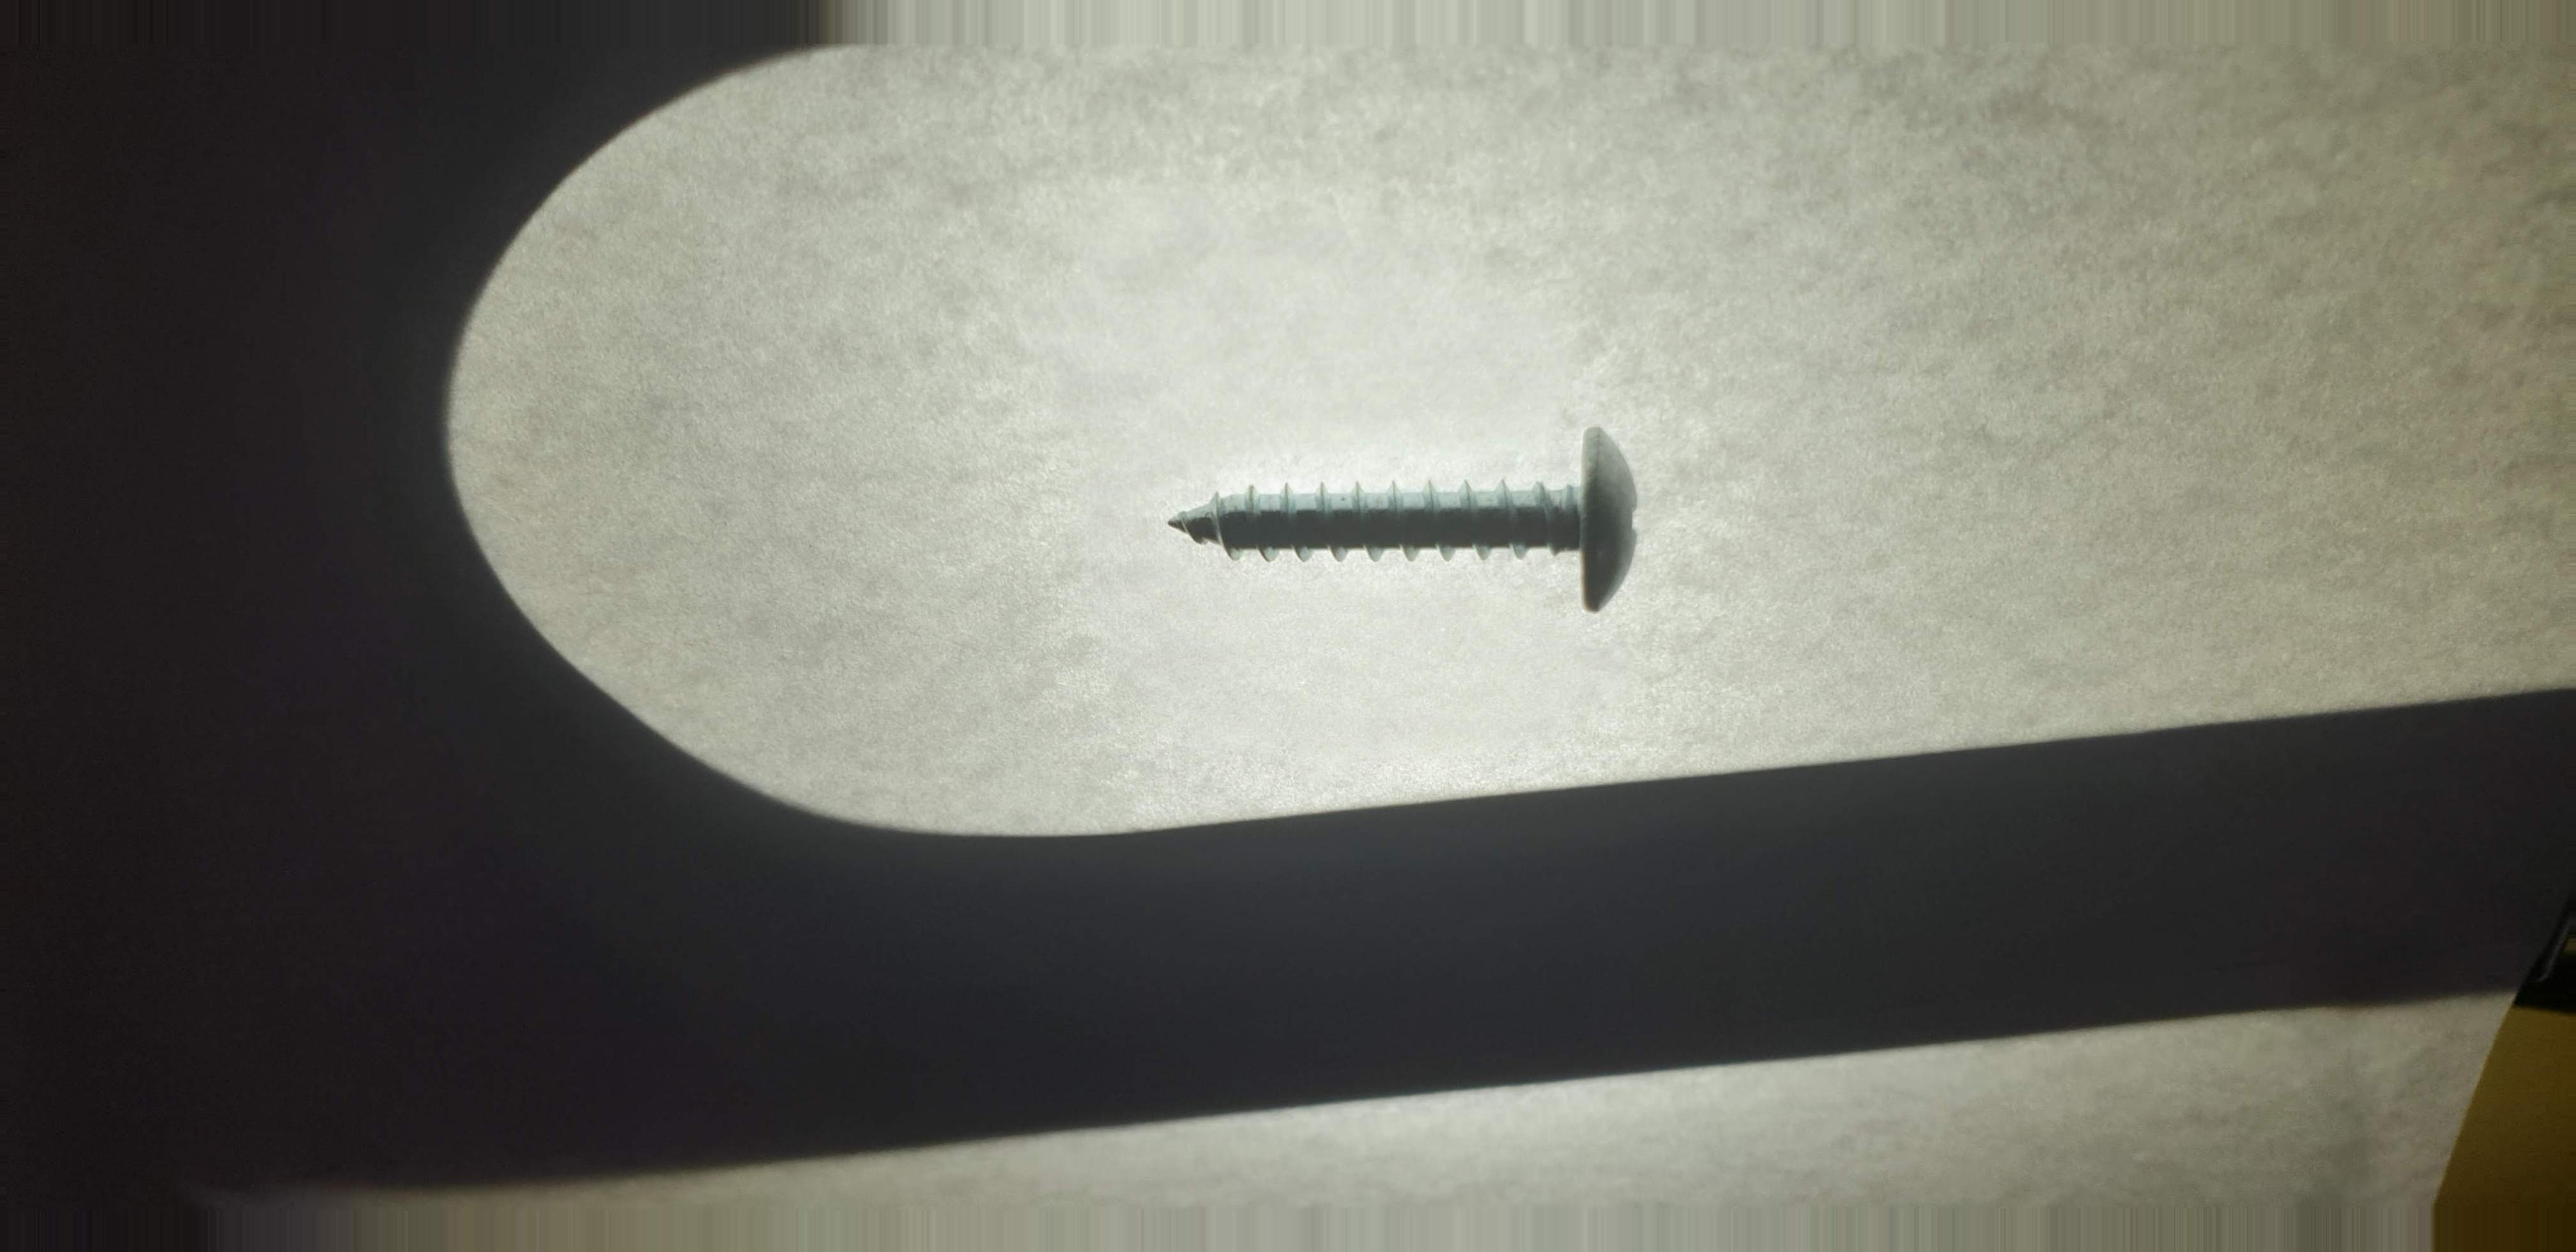S002: (1135, 407, 1697, 619)
